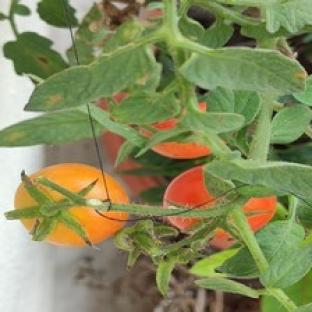Tomato: (30, 163, 128, 203), (163, 166, 214, 208), (152, 143, 211, 158)
